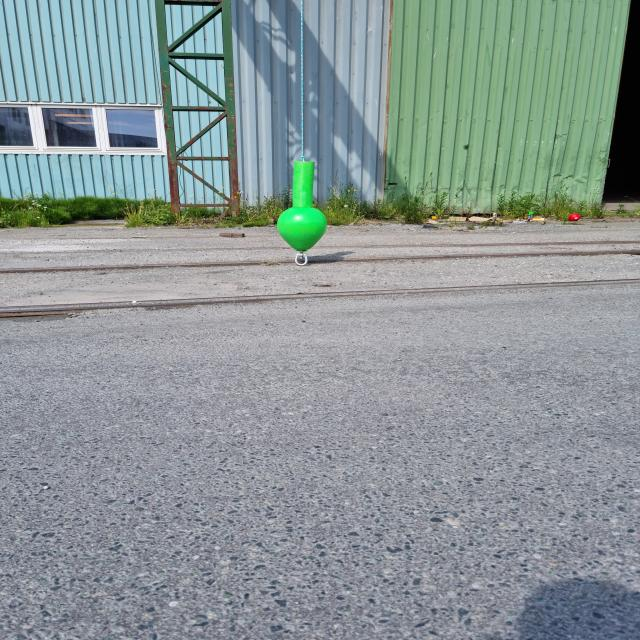green: (279, 160, 328, 252)
